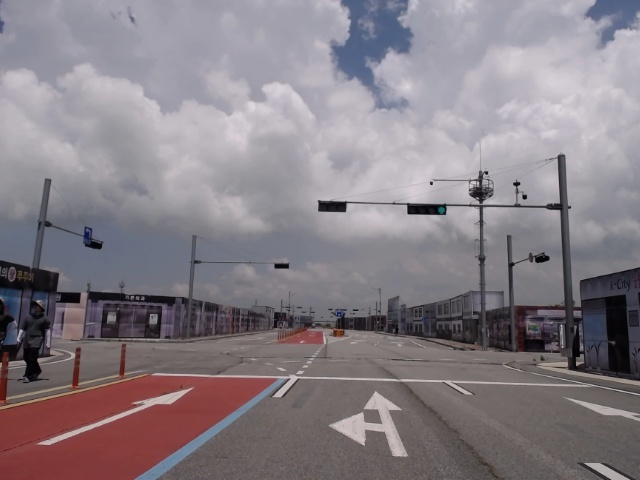straight_green_4: (406, 205, 445, 217)
